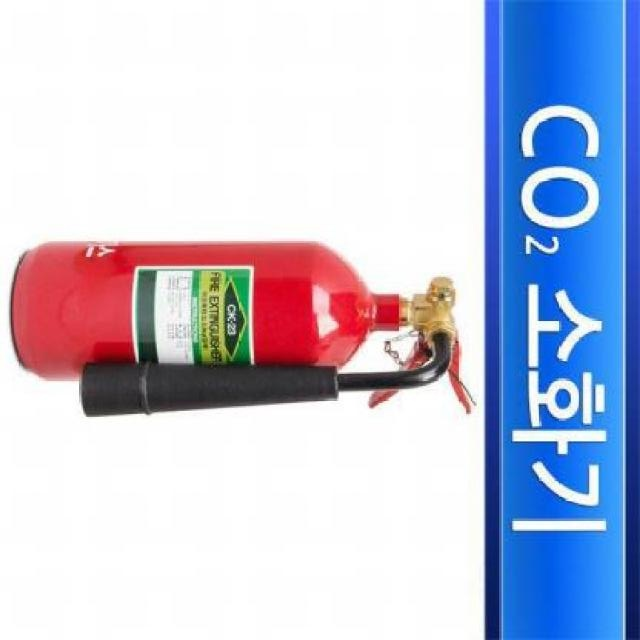fire extinguisher: (11, 239, 471, 419)
